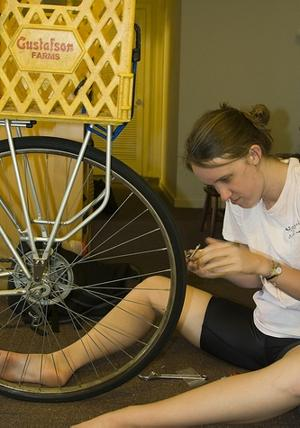person: (2, 105, 300, 427)
